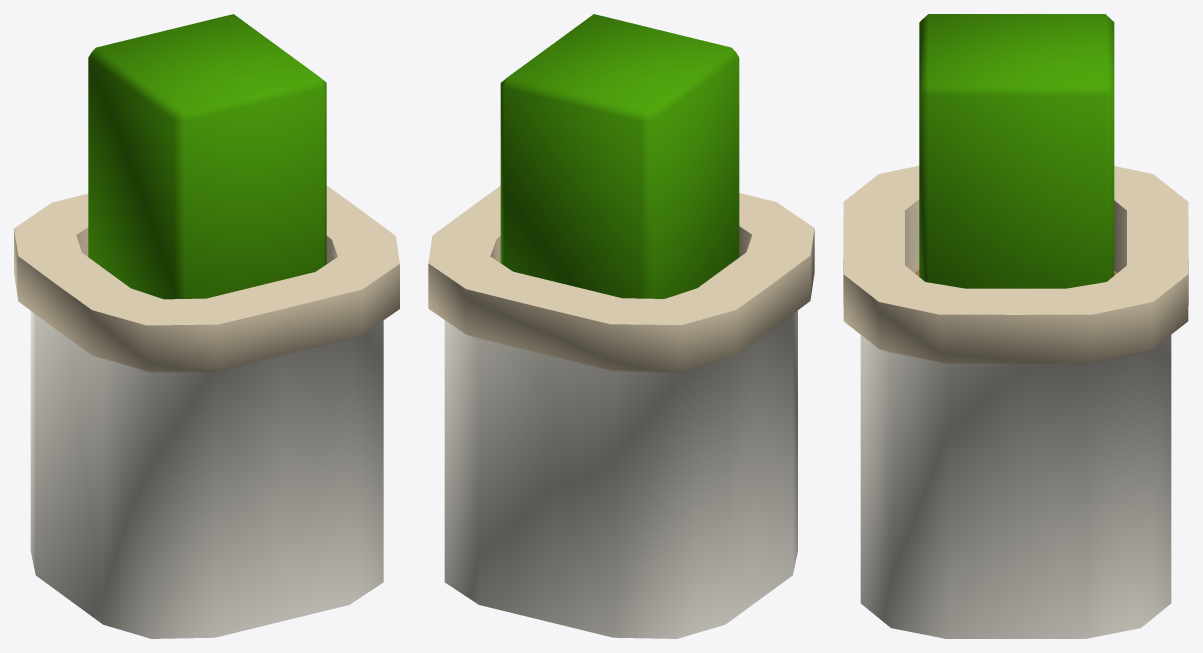
The model's file is Barrier2.fbx.
3 views of the same model, side by side, from view 1: azimuth 30°, elevation 25°; view 2: azimuth 150°, elevation 25°; view 3: azimuth 270°, elevation 25° (orthographic). The views are drawn at different scales.
Visible parts, largest first — view 1: Barrier2; view 2: Barrier2; view 3: Barrier2.
Part boxes in pixels (x1,y1,x2,y2): Barrier2: (14, 14, 399, 638); Barrier2: (428, 14, 814, 638); Barrier2: (843, 14, 1188, 638).
Bounding box in the file's own units: 99.58 × 157 × 94.59.
1 material, 1 textured.
